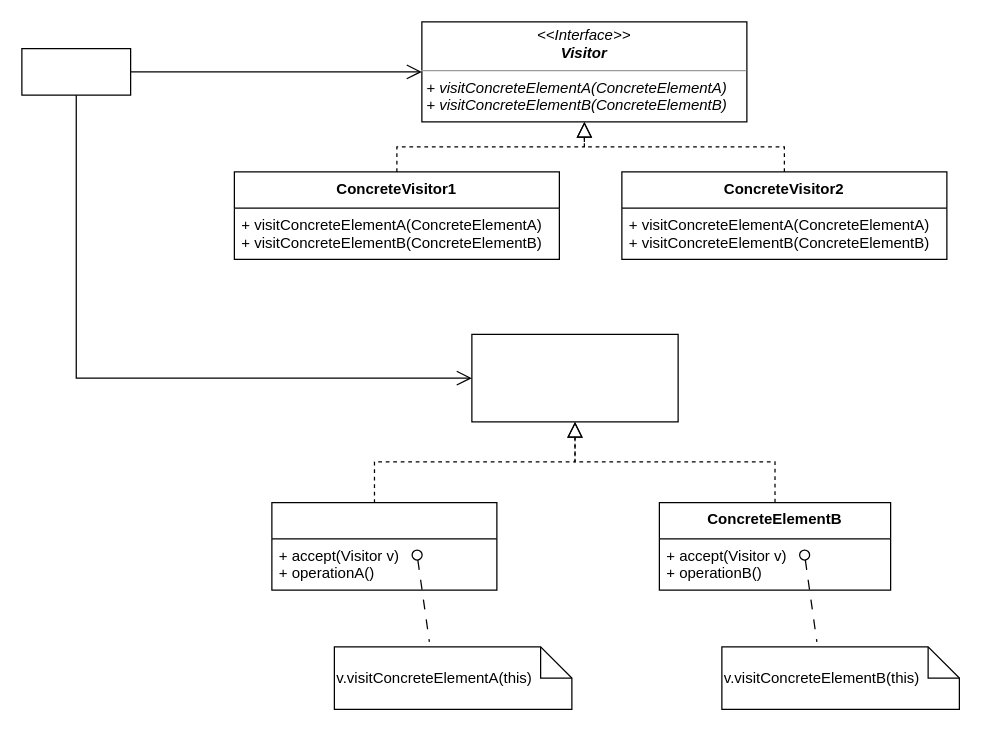
Image size: 981x731. Some labels were removed from this diagram. The shapes that lost their labels are listed below. From the top down, each one's box as (x1, y1, x2, y2) in pixels, then its label:
(21, 47, 131, 95): Client
(471, 333, 678, 422): <<Interface>> Element + accept(Visitor)
(271, 501, 497, 590): ConcreteElementA
